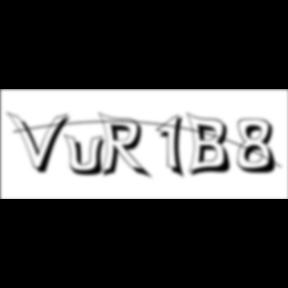1: (156, 114, 190, 182)
8: (238, 117, 282, 176)
B: (187, 111, 237, 179)
R: (98, 112, 156, 182)
V: (7, 110, 74, 176)
u: (64, 132, 112, 178)
